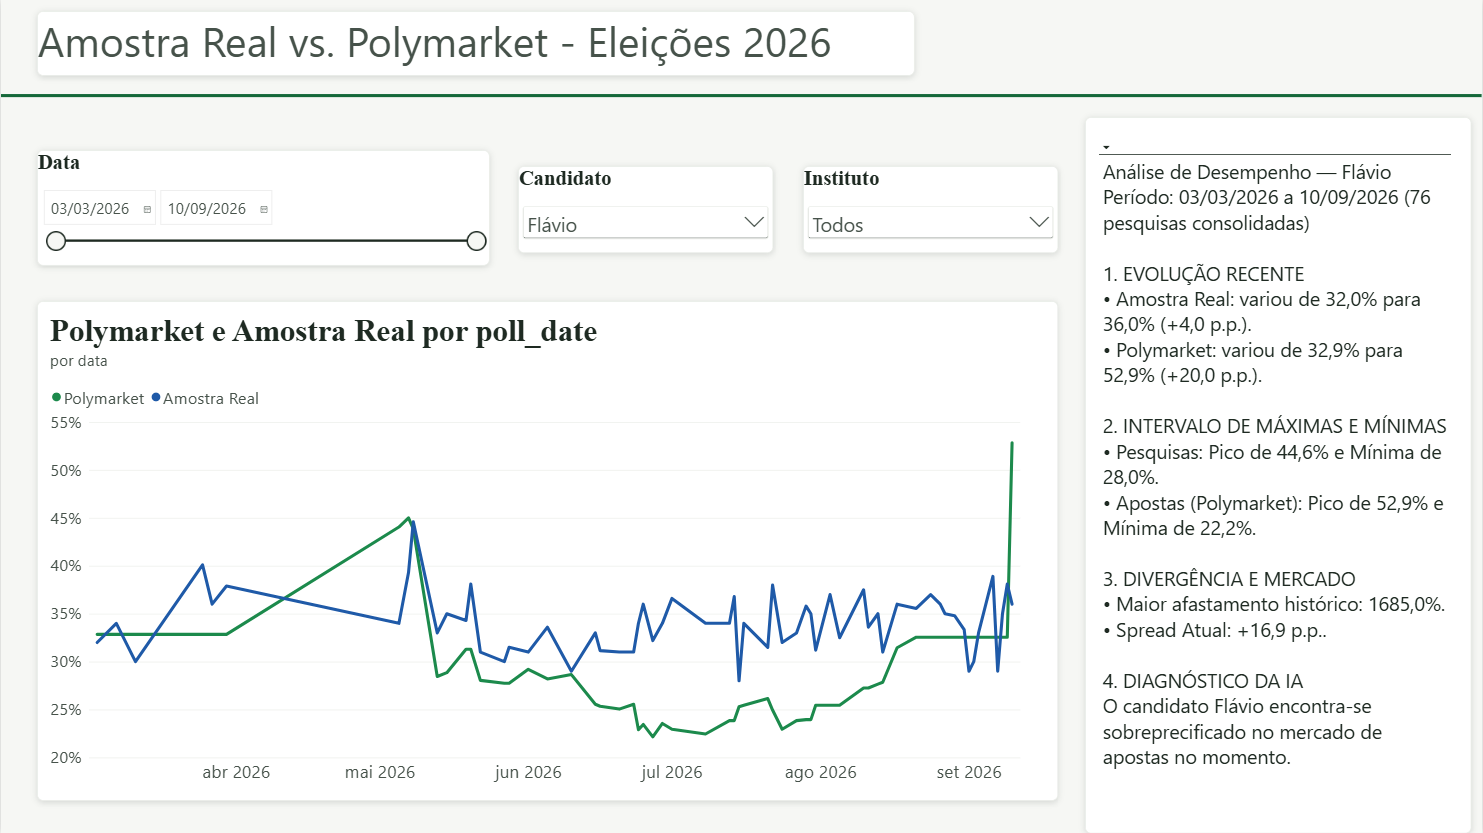

The page's visual inventory and layout, read from the dashboard file:
{"tool":"powerbi","page":{"name":"pesquisa vs mercado de a posta","canvas":[1920,1080],"ordinal":2},"visuals":[{"type":"lineChart","fields":{"Category":["Pesquisas vs Mercado de Apostas.poll_date"],"Y":["Avg(Pesquisas vs Mercado de Apostas.polymarket_pct)","Avg(Pesquisas vs Mercado de Apostas.poll_pct)"]},"box":[46.4,390,1324.2,648.2],"z":0},{"type":"slicer","title":"Candidato","fields":{"Values":["Pesquisas vs Mercado de Apostas.candidate"]},"box":[670.5,215.4,330.6,113.3],"z":1000},{"type":"shape","box":[0,97.5,1919.6,53.4],"z":2000},{"type":"textbox","box":[46.4,14.9,1138.5,83.6],"z":3000},{"type":"slicer","title":"Data","fields":{"Values":["Pesquisas vs Mercado de Apostas.poll_date"]},"box":[46.4,195,586.9,150.4],"z":4000},{"type":"tableEx","title":"Resumo Dax","fields":{"Values":["Pesquisas vs Mercado de Apostas.Resumo_IA_Expandido"]},"box":[1405.9,152.3,501.5,928.6],"z":5000},{"type":"slicer","title":"Instituto","fields":{"Values":["Pesquisas vs Mercado de Apostas.institute"]},"box":[1040,215.4,330.6,113.3],"z":6000}]}

Visuals, with their boxes in screenshot pixels (x1, y1, x2, y2), scaled from the page's 1920x1080 canvas onto the 1483x833 screenshot:
lineChart - Pesquisas vs Mercado de Apostas.poll_date x Avg(Pesquisas vs Mercado de Apostas.polymarket_pct): rect(36, 301, 1059, 801)
"Candidato" slicer: rect(518, 166, 773, 254)
shape: rect(0, 75, 1482, 116)
textbox: rect(36, 11, 915, 76)
"Data" slicer: rect(36, 150, 489, 266)
"Resumo Dax" tableEx: rect(1086, 117, 1473, 832)
"Instituto" slicer: rect(803, 166, 1059, 254)
